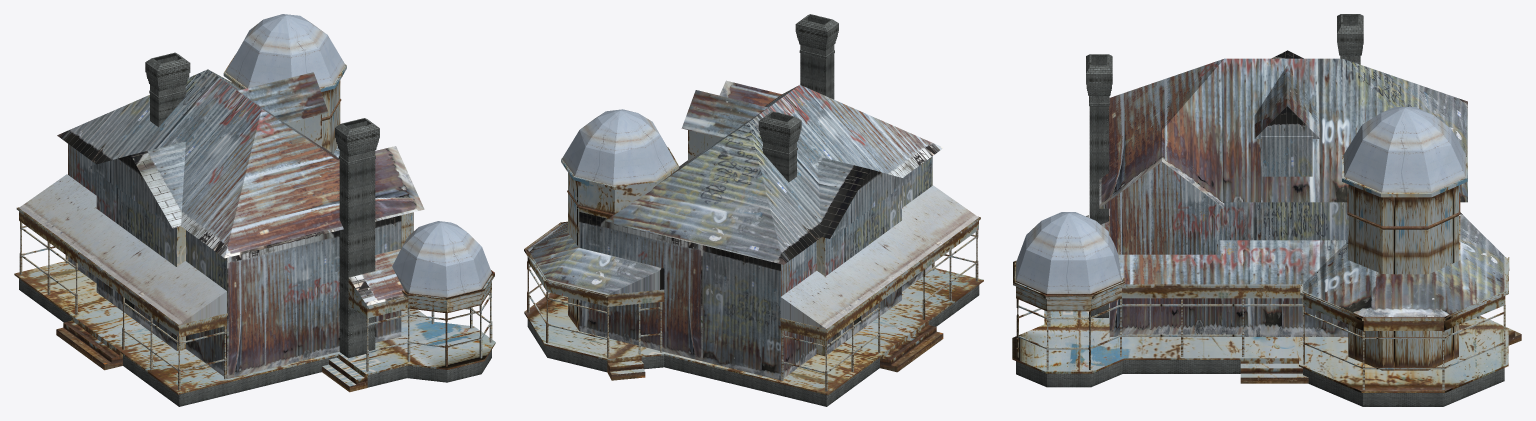
File: game_old_house.glb
The picture shows the model from 3 angles, left to right: view 1: azimuth 30°, elevation 25°; view 2: azimuth 150°, elevation 25°; view 3: azimuth 270°, elevation 25°; orthographic projection. The views are drawn at different scales.
Parts seen in each view (by area): view 1: 3DSMeshMatrix; view 2: 3DSMeshMatrix; view 3: 3DSMeshMatrix.
Boxes of the visible parts, x1,y1,x2,y2 form: 3DSMeshMatrix: (14, 14, 495, 406); 3DSMeshMatrix: (524, 14, 983, 406); 3DSMeshMatrix: (1012, 14, 1521, 406).
Size of the model in its own units: 14.85 by 10.09 by 17.41.
11 materials, 11 textured.
